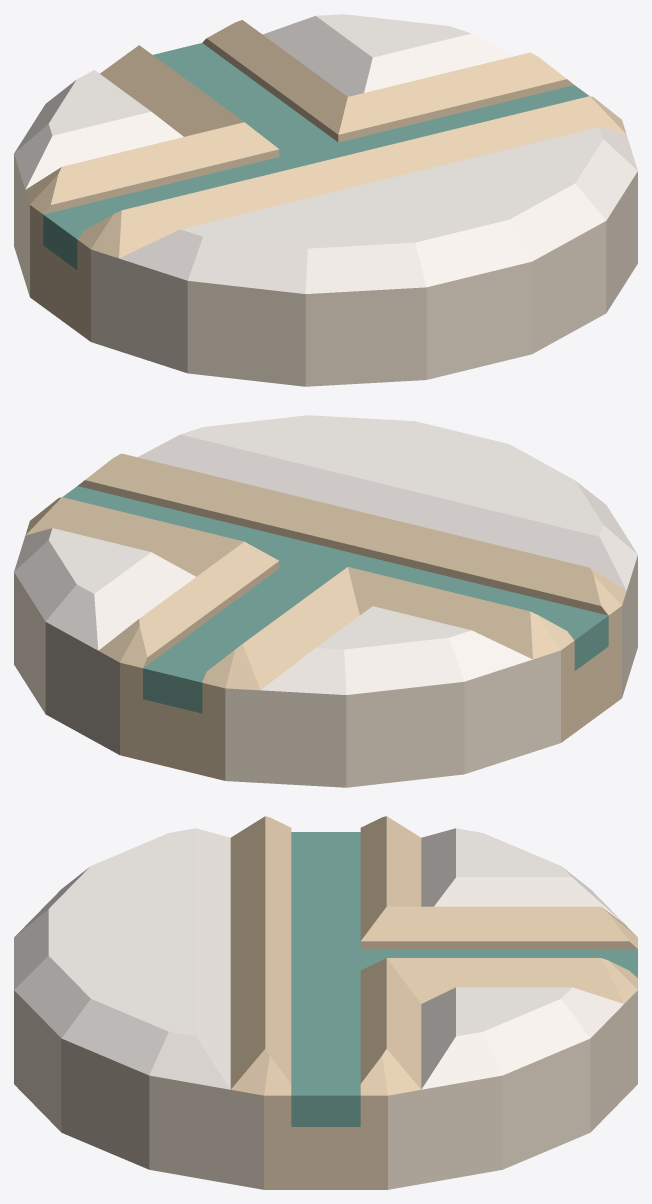
Rendered from Puzzle_Floor_Conduit_Rotating_Platform_TJoint.glb.
3 views of the same model, one above another, from view 1: azimuth 30°, elevation 25°; view 2: azimuth 150°, elevation 25°; view 3: azimuth 270°, elevation 25° (orthographic).
Visible parts, largest first — view 1: Puzzle_Floor_Conduit_Rotating_Platform_TJoint; view 2: Puzzle_Floor_Conduit_Rotating_Platform_TJoint; view 3: Puzzle_Floor_Conduit_Rotating_Platform_TJoint.
Boxes of the visible parts, <box> form: Puzzle_Floor_Conduit_Rotating_Platform_TJoint: <box>14,14,637,386</box>; Puzzle_Floor_Conduit_Rotating_Platform_TJoint: <box>14,415,637,787</box>; Puzzle_Floor_Conduit_Rotating_Platform_TJoint: <box>14,816,637,1189</box>.
Bounding box in the file's own units: 0.9 × 0.2 × 0.9.
